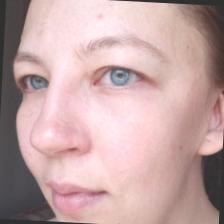Dry: (16, 0, 202, 224)
